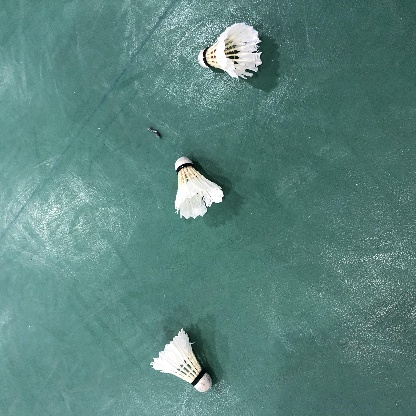ball_single: (150, 329, 212, 392), (198, 23, 262, 79), (174, 157, 224, 219)
